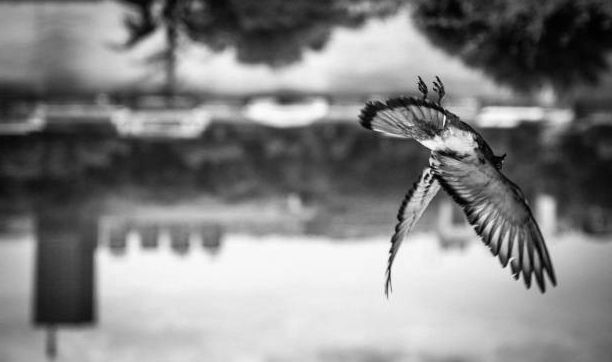Bird: (355, 73, 563, 305)
